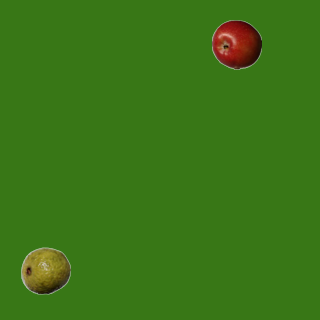Apple Braeburn: (211, 19, 261, 69)
Guava: (20, 245, 70, 295)
